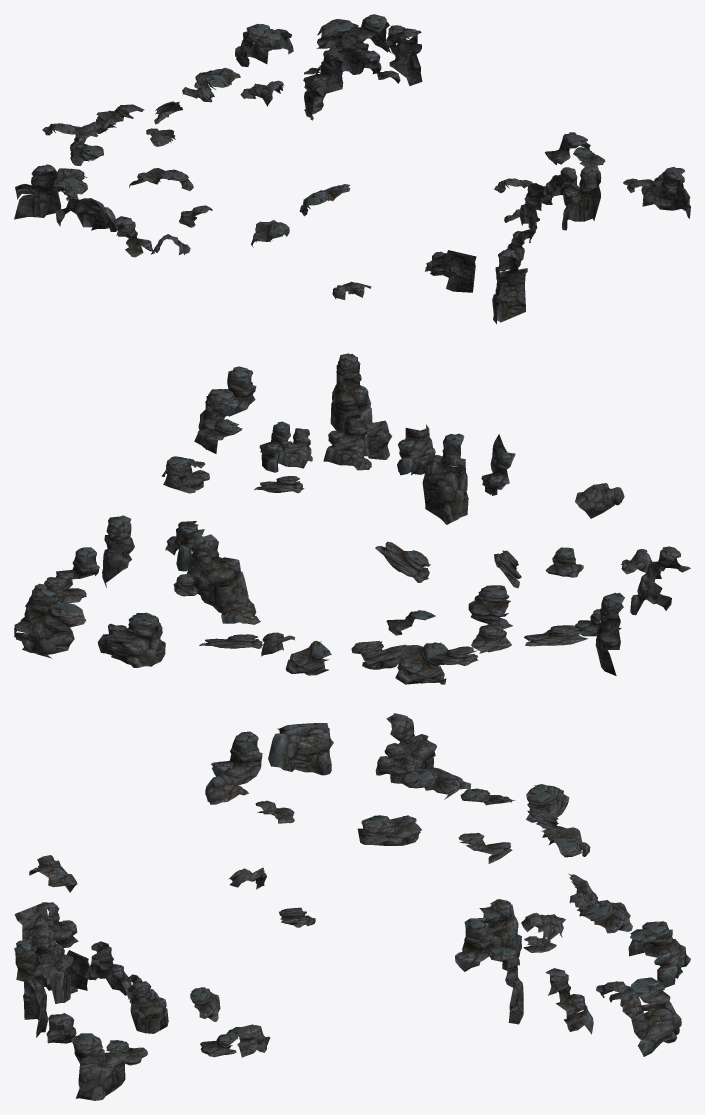
Rendered from S_Rock_Yellow034_AZ.FBX.
3 views of the same model, one above another, from view 1: azimuth 30°, elevation 25°; view 2: azimuth 150°, elevation 25°; view 3: azimuth 270°, elevation 25° (orthographic). The views are drawn at different scales.
Visible parts, largest first — view 1: S_Rock_Yellow034_AZ; view 2: S_Rock_Yellow034_AZ; view 3: S_Rock_Yellow034_AZ.
Part boxes in pixels (<box>): S_Rock_Yellow034_AZ: <box>14,14,690,324</box>; S_Rock_Yellow034_AZ: <box>14,353,690,684</box>; S_Rock_Yellow034_AZ: <box>14,713,690,1100</box>.
Bounding box in the file's own units: 16282 × 3860 × 15168.
